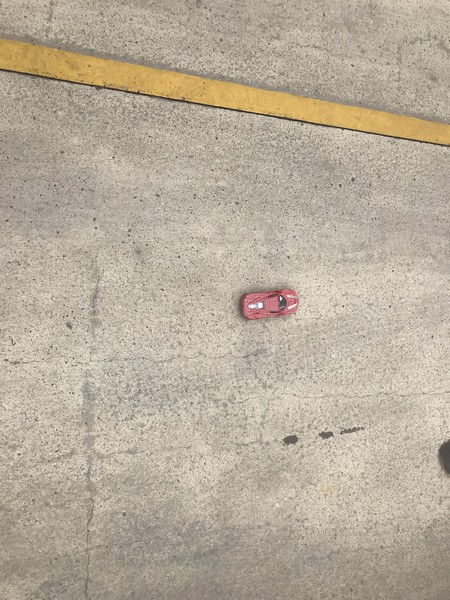RC: (239, 288, 302, 322)
